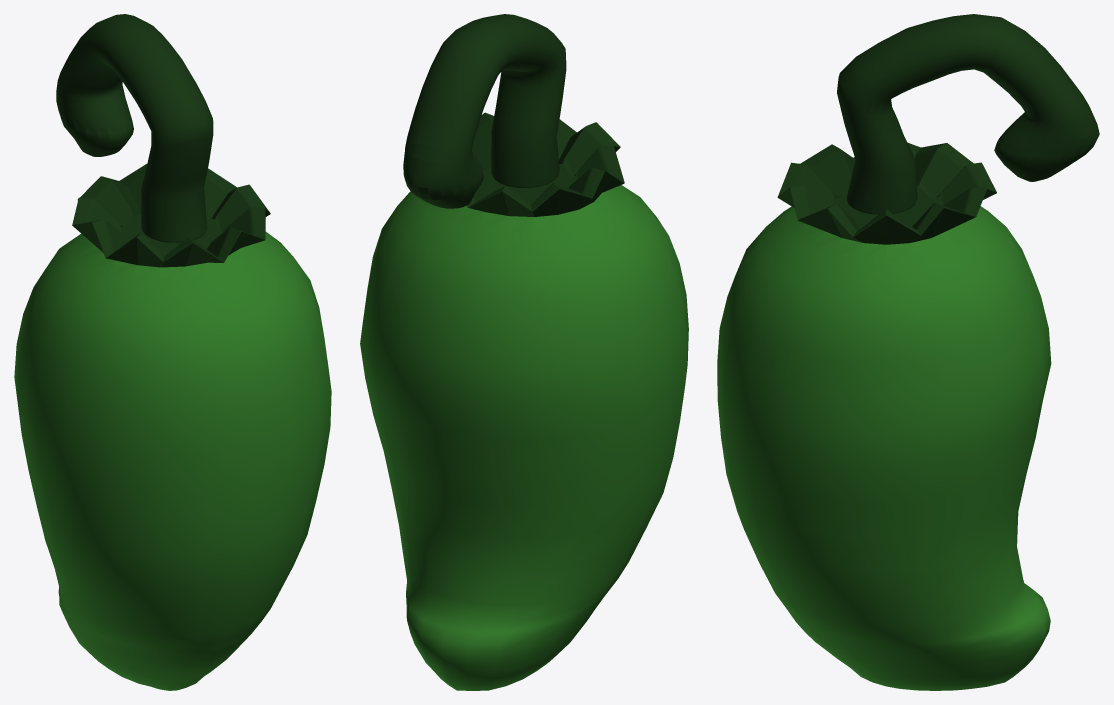
File: Jalapeno - Copy.fbx
3 renders of one model, left to right at view 1: azimuth 30°, elevation 25°; view 2: azimuth 150°, elevation 25°; view 3: azimuth 270°, elevation 25°, orthographic. The views are drawn at different scales.
Parts seen in each view (by area): view 1: body1; view 2: body1; view 3: body1.
Part boxes in pixels (bbox=[...]): body1: bbox=[14, 14, 331, 690]; body1: bbox=[360, 14, 688, 690]; body1: bbox=[717, 14, 1099, 690].
Size of the model in its own units: 58.4 by 67.11 by 129.
